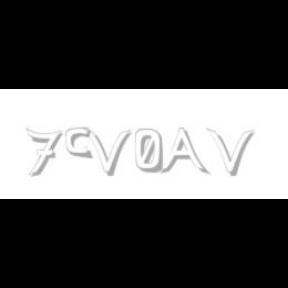0: (136, 128, 166, 174)
7: (26, 128, 62, 178)
A: (159, 128, 207, 176)
V: (83, 128, 131, 176), (206, 128, 254, 176)
c: (66, 128, 94, 160)
